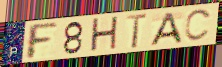8: (63, 20, 84, 55)
A: (148, 11, 183, 48)
C: (183, 8, 214, 43)
F: (26, 22, 59, 61)
H: (88, 15, 120, 55)
T: (124, 13, 149, 51)
